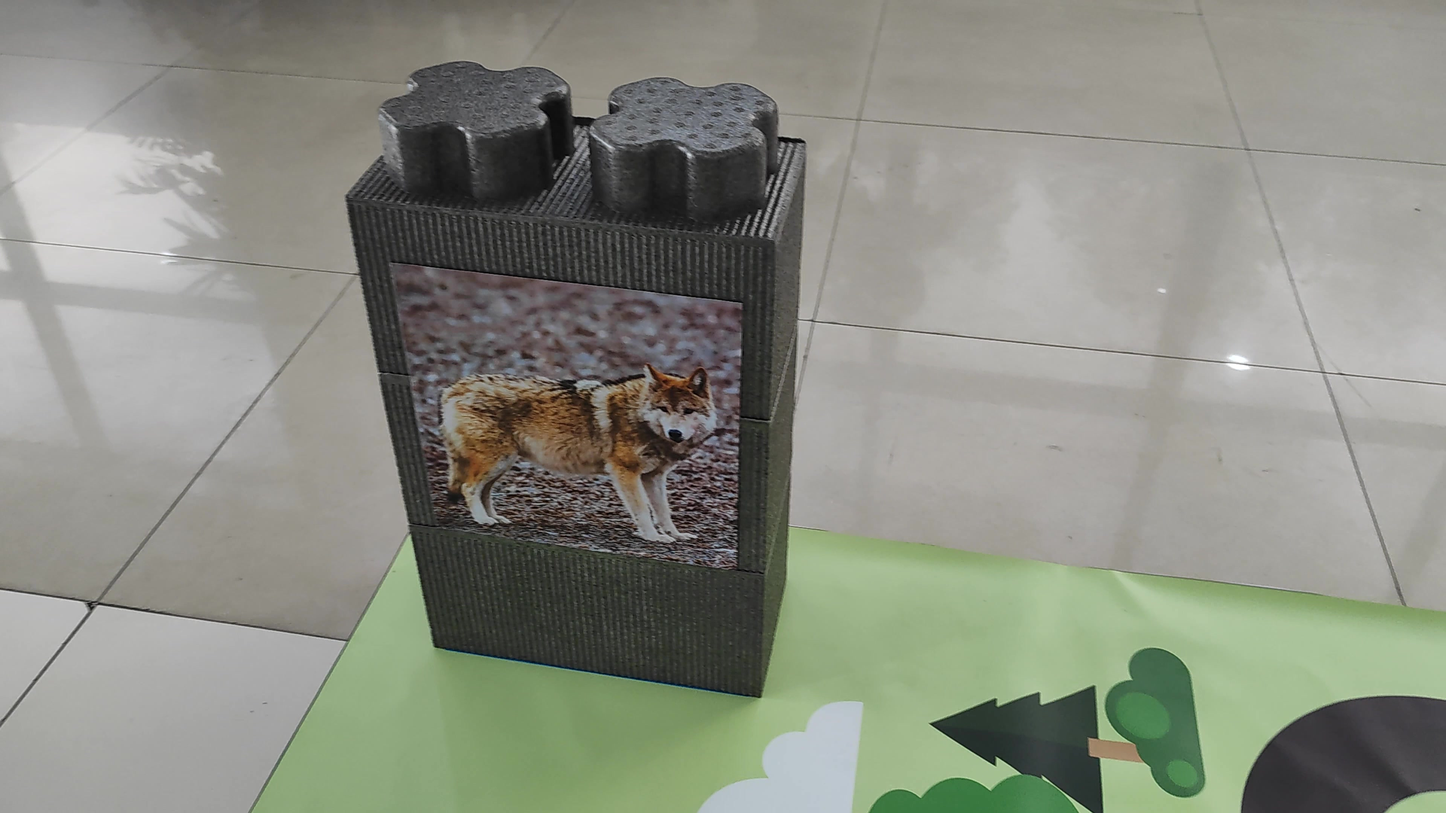wolf: (403, 314, 741, 566)
